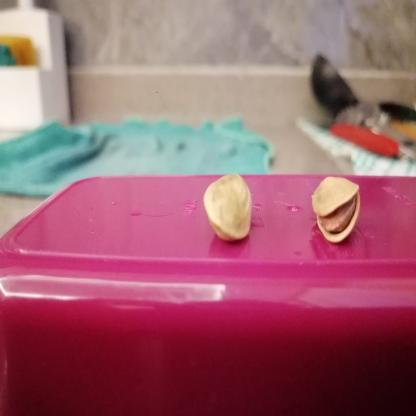pistachio: (200, 173, 261, 249), (310, 176, 368, 245)
